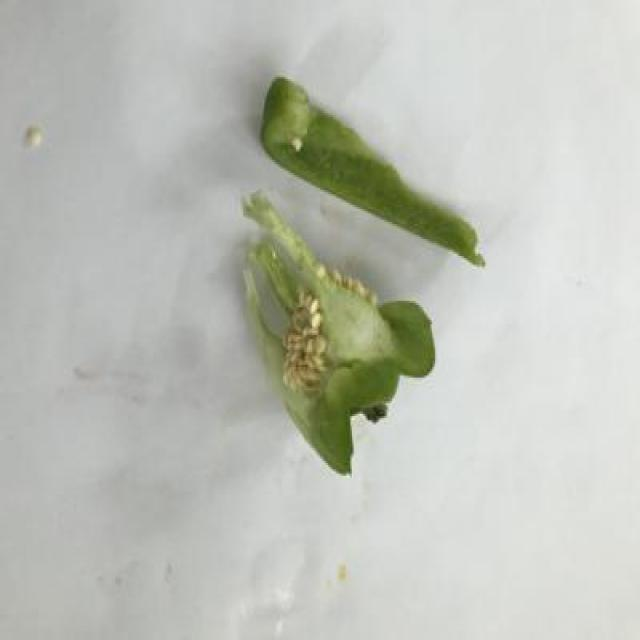compost: (213, 51, 501, 498)
